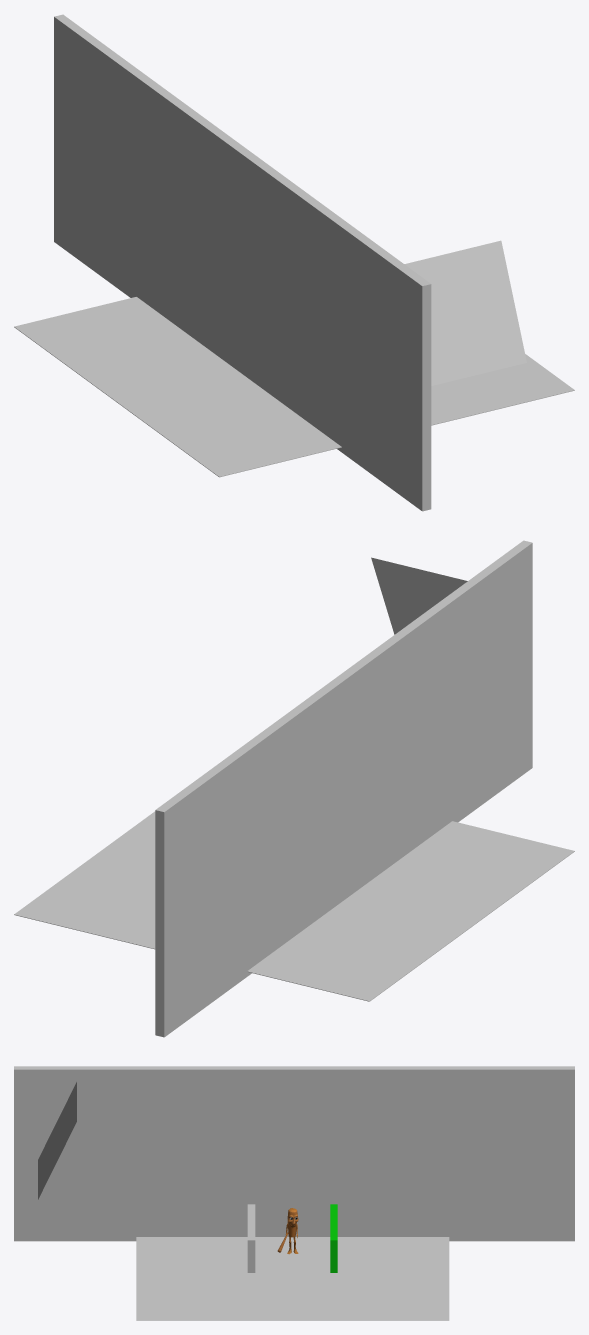
File: sahur.obj
3 renders of one model, top to bottom at view 1: azimuth 30°, elevation 25°; view 2: azimuth 150°, elevation 25°; view 3: azimuth 270°, elevation 25°, orthographic. The views are drawn at different scales.
Visible parts, largest first — view 1: Cube.003, Cube, Plane; view 2: Cube.003, Cube, Plane; view 3: Cube.003, Cube, Plane, Cube.001, Cube.002, RetopoFlow.002.
Boxes of the visible parts, x1=… form: Cube.003: x1=54, y1=14, x2=431, y2=511; Cube: x1=14, y1=297, x2=574, y2=477; Plane: x1=404, y1=240, x2=526, y2=385; Cube.003: x1=155, y1=540, x2=532, y2=1037; Cube: x1=14, y1=811, x2=574, y2=1001; Plane: x1=371, y1=557, x2=467, y2=634; Cube.003: x1=14, y1=1066, x2=574, y2=1241; Cube: x1=136, y1=1237, x2=449, y2=1320; Plane: x1=38, y1=1082, x2=76, y2=1199; Cube.001: x1=247, y1=1204, x2=255, y2=1272; Cube.002: x1=330, y1=1204, x2=337, y2=1272; RetopoFlow.002: x1=277, y1=1208, x2=298, y2=1254.
Bounding box in the file's own units: 13.29 × 8.04 × 23.84.
4 materials, 1 textured.
